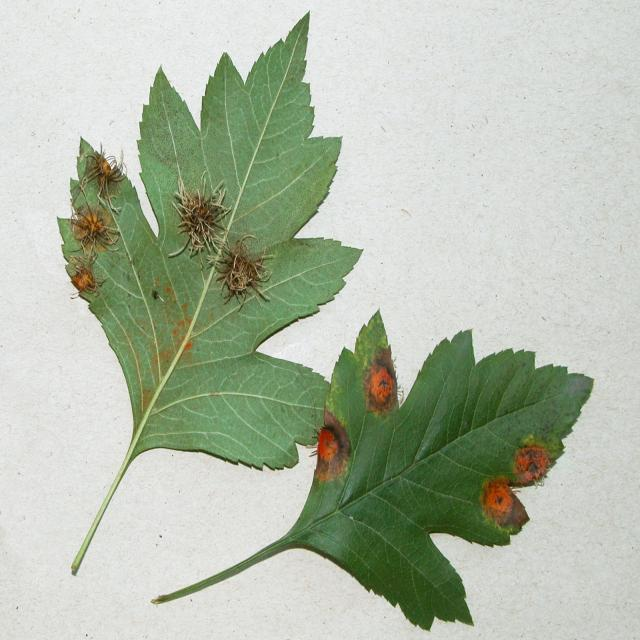Gymnosporangium_Rusts: (63, 80, 261, 359), (300, 360, 561, 554)
